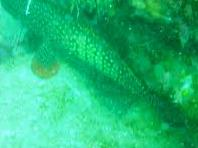Serranidae -Groupers-: (0, 0, 167, 106)
